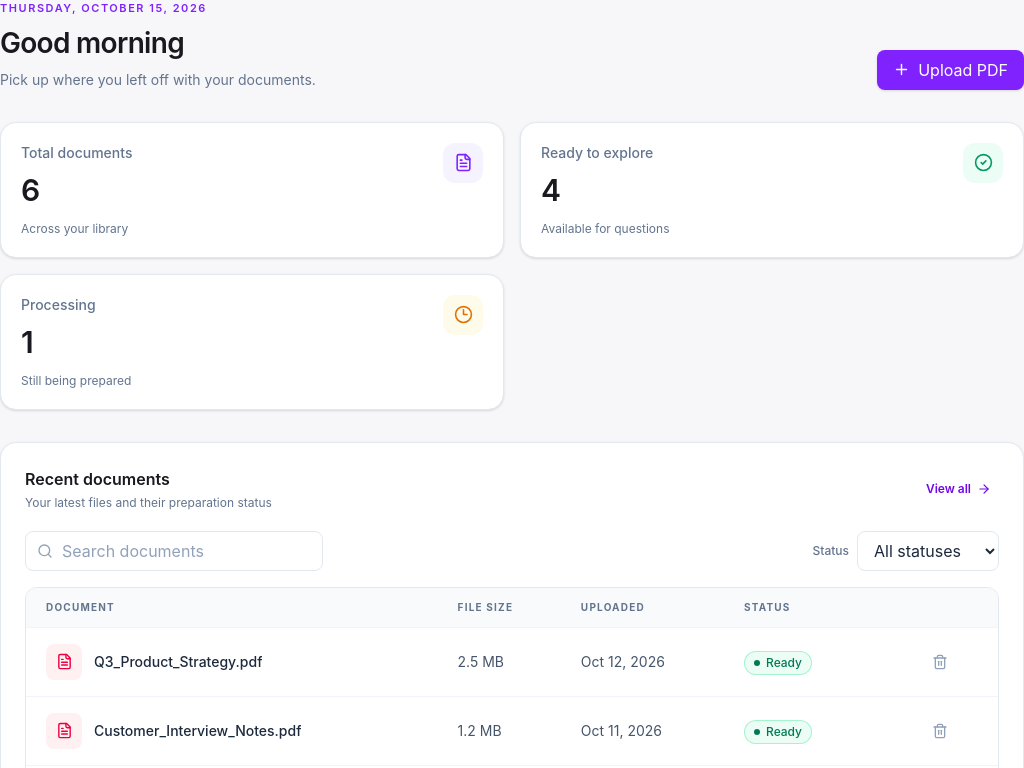
it: DashboardPage › filters recent documents by search text and status
This screenshot has width=1024, height=768.
Type "Customer" into the search field labelled "Search documents" at (174, 551), box top-left (25, 531), bottom-right (323, 571)
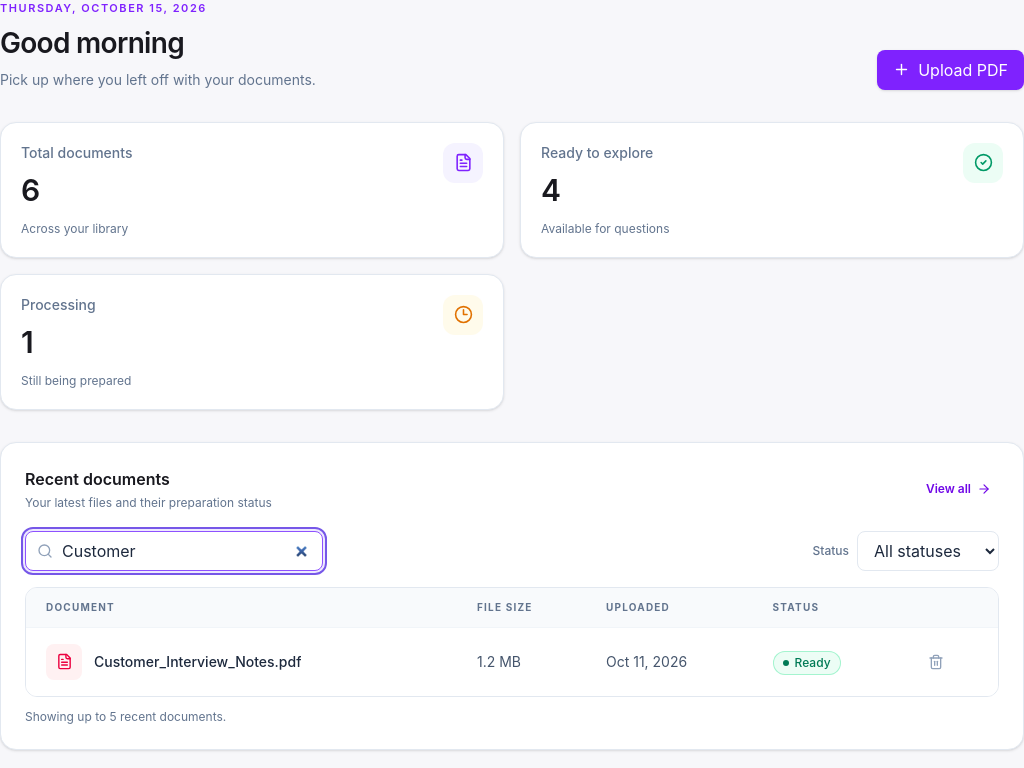
Expected: the row "Customer_Interview_Notes.pdf 1.2 MB Oct 11, 2026 Ready" is shown, top-left (26, 627), bottom-right (998, 696)
Expected: the cell "Engineering_Handbook.pdf" is not shown
Clear the search field named "Search documents" at (174, 551), box top-left (25, 531), bottom-right (323, 571)
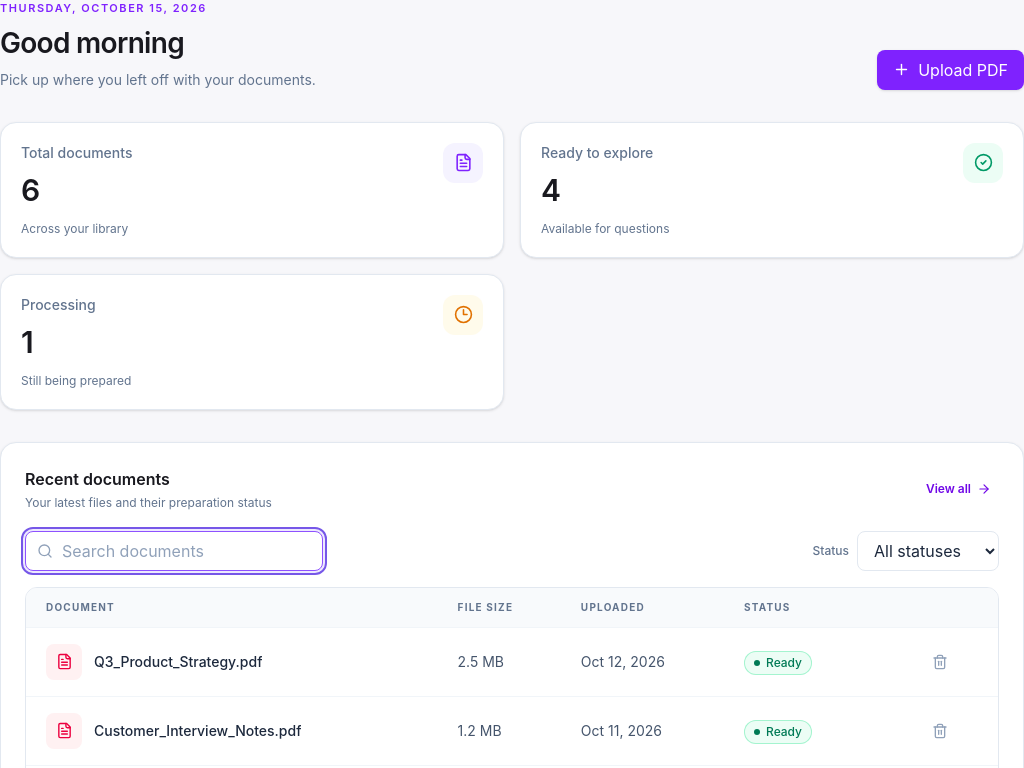
Select "Processing" in the dropdown labelled "Status" at (928, 551), box top-left (857, 531), bottom-right (999, 571)
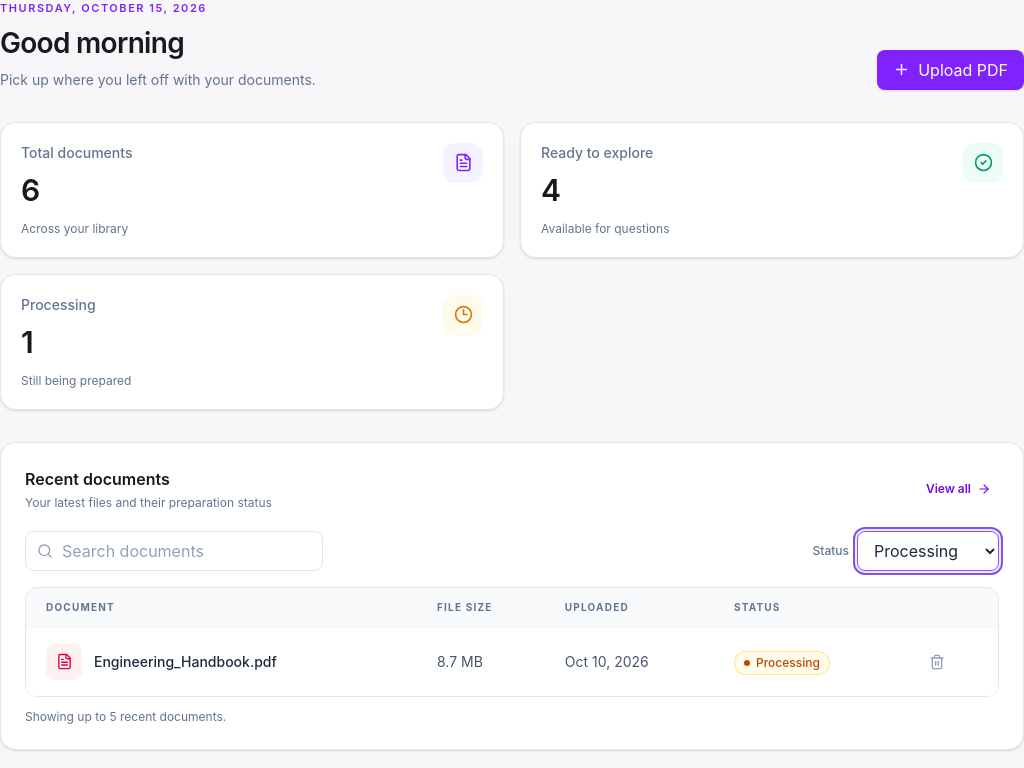
Now the row "Engineering_Handbook.pdf 8.7 MB Oct 10, 2026 Processing" is shown, box top-left (26, 627), bottom-right (998, 696)
Now the text "Customer_Interview_Notes.pdf" is gone
